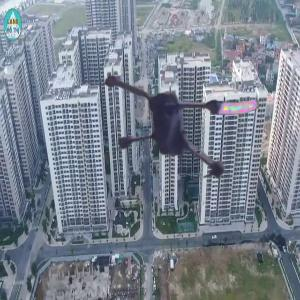drone: (95, 30, 282, 217)
